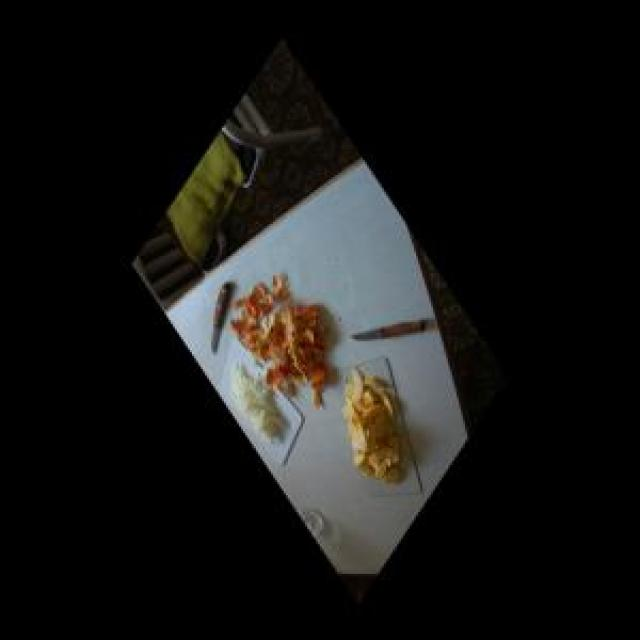knife: (341, 307, 432, 348), (207, 271, 241, 364)
